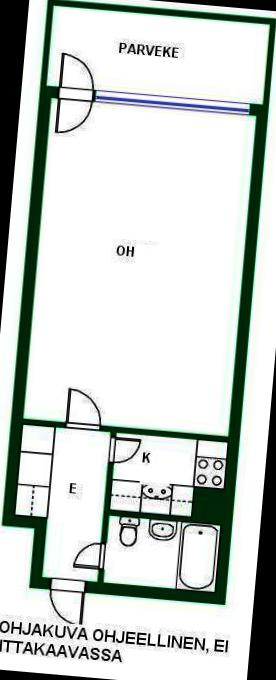door: (52, 86, 97, 138), (44, 576, 88, 627), (56, 51, 100, 100), (61, 386, 106, 432), (70, 538, 110, 573), (105, 433, 142, 466)
window: (90, 86, 256, 116)
